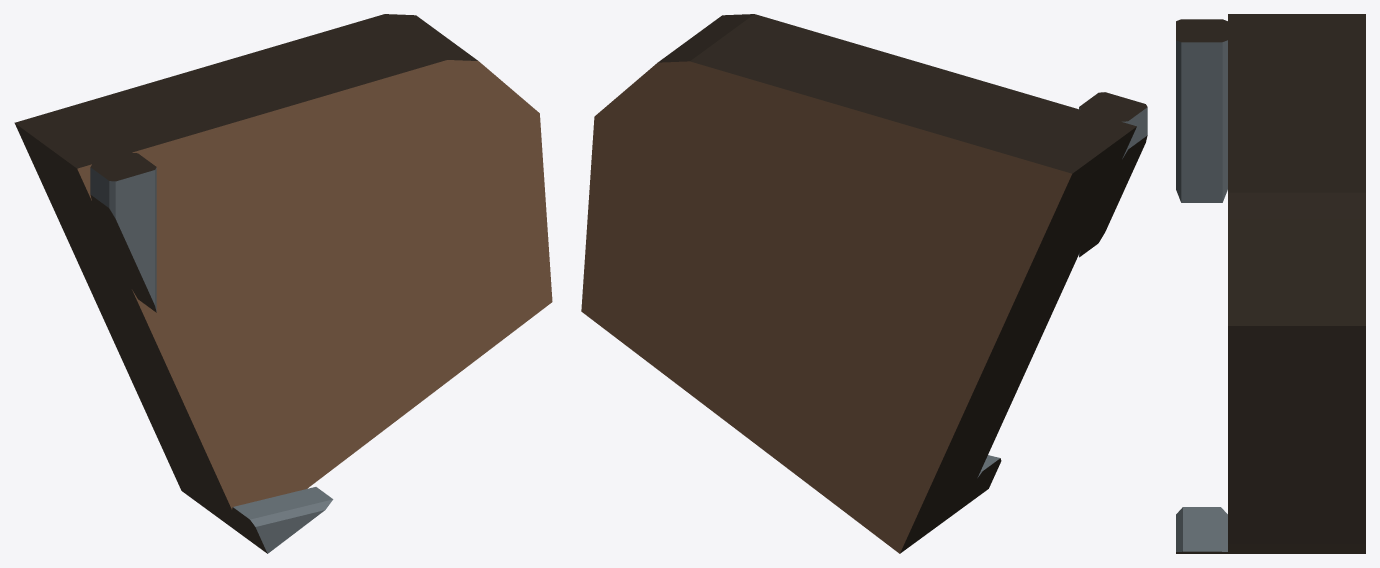
The model's file is SM_DoorShard_02_43.fbx.
3 views of the same model, side by side, from view 1: azimuth 30°, elevation 25°; view 2: azimuth 150°, elevation 25°; view 3: azimuth 270°, elevation 25° (orthographic). The views are drawn at different scales.
Parts seen in each view (by area): view 1: SM_DoorShard_02_43; view 2: SM_DoorShard_02_43; view 3: SM_DoorShard_02_43.
Boxes of the visible parts, left/top/right/bottom form: SM_DoorShard_02_43: left=14, top=14, right=552, bottom=553; SM_DoorShard_02_43: left=581, top=14, right=1147, bottom=553; SM_DoorShard_02_43: left=1176, top=14, right=1365, bottom=553.
Bounding box in the file's own units: 70.04 × 22 × 60.16.
